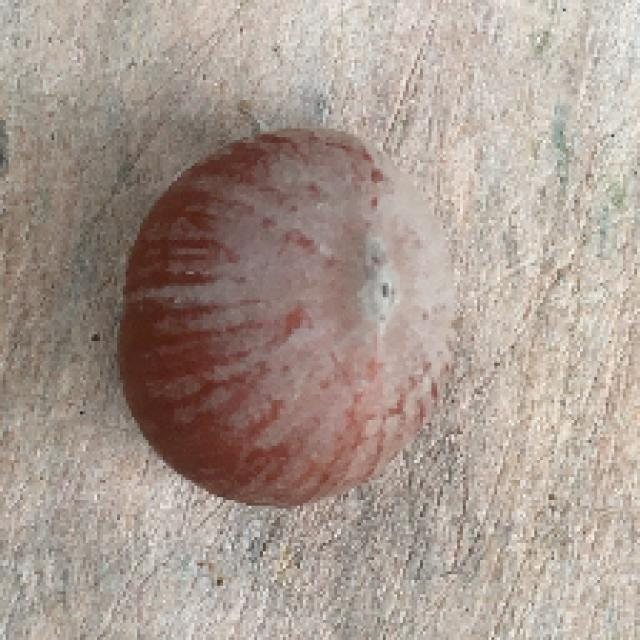QualityHazelnut: (115, 128, 466, 512)
